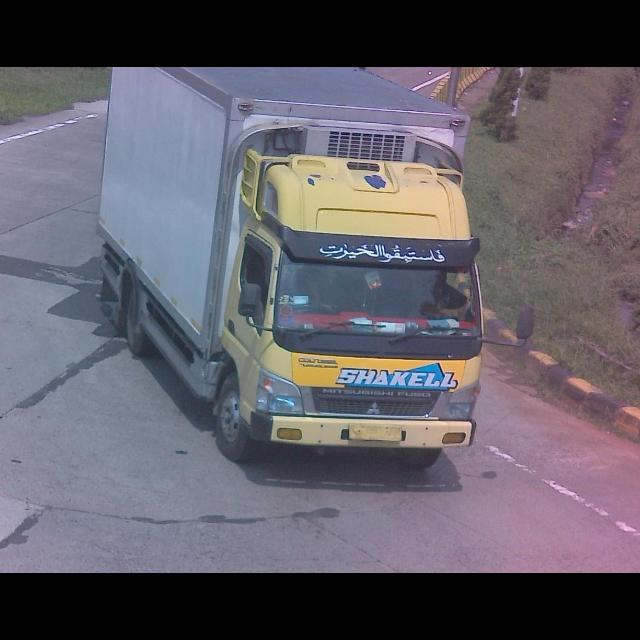plate: (347, 419, 407, 443)
